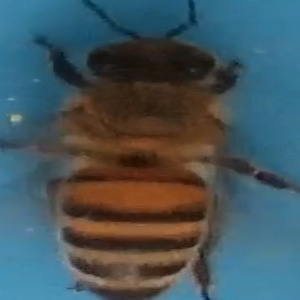bee: (27, 6, 290, 300)
